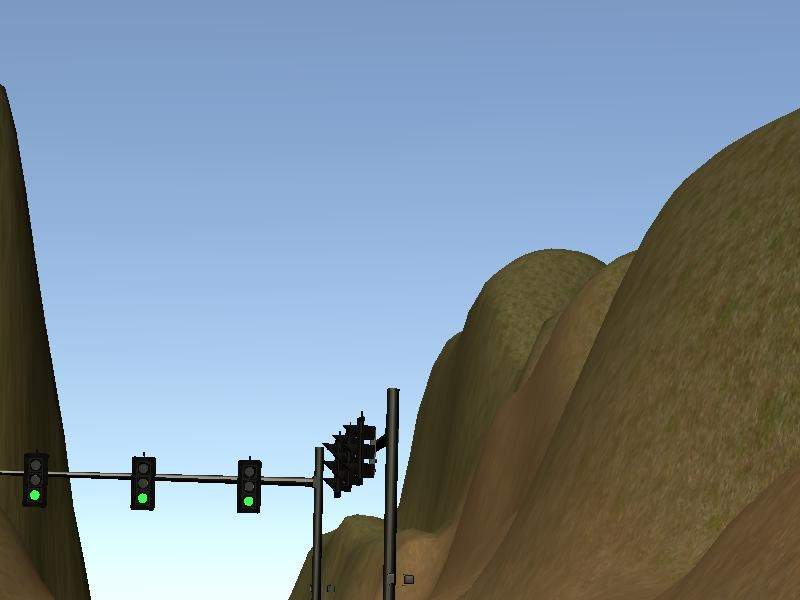green: (22, 455, 48, 508), (133, 455, 156, 511), (239, 459, 259, 511)
